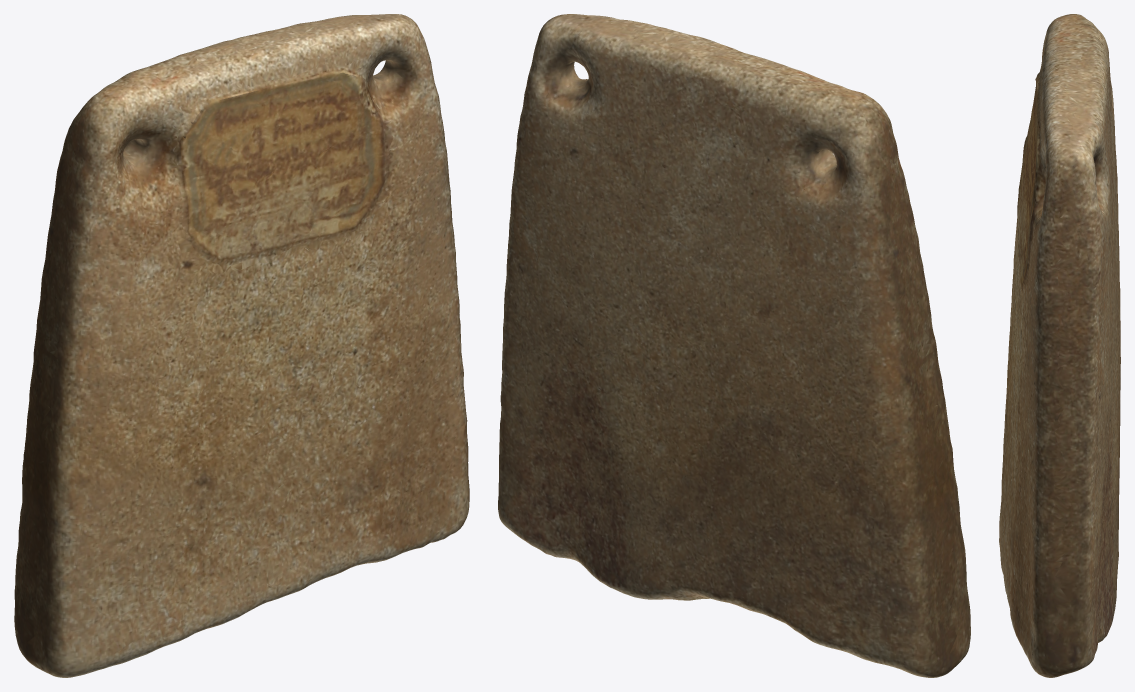
The model's file is final_fixed_decimated.gltf.
3 renders of one model, left to right at view 1: azimuth 30°, elevation 25°; view 2: azimuth 150°, elevation 25°; view 3: azimuth 270°, elevation 25°, orthographic. The views are drawn at different scales.
Parts seen in each view (by area): view 1: placa-idolo; view 2: placa-idolo; view 3: placa-idolo.
Part boxes in pixels (x1,y1,x2,y2): placa-idolo: (14,14,469,677); placa-idolo: (498,14,970,677); placa-idolo: (999,14,1120,677).
Bounding box in the file's own units: 0.0542 × 0.067 × 0.0133.
Materials: 1 (1 with a texture image).
